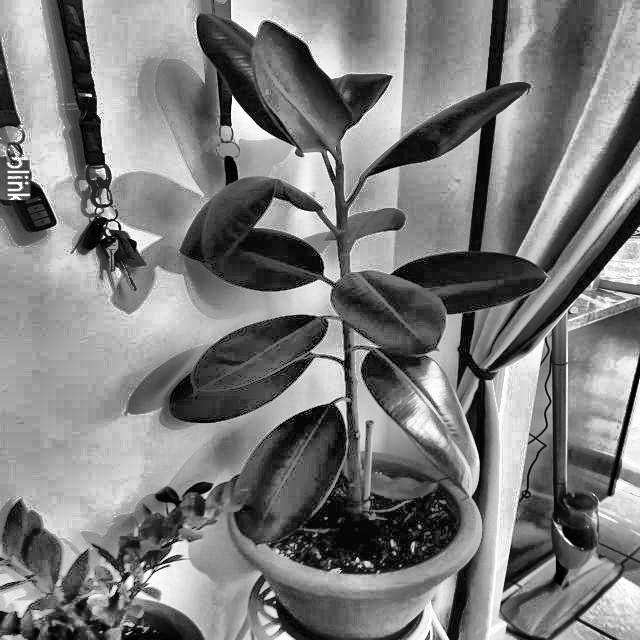plants: (235, 49, 450, 541), (18, 497, 195, 636)
